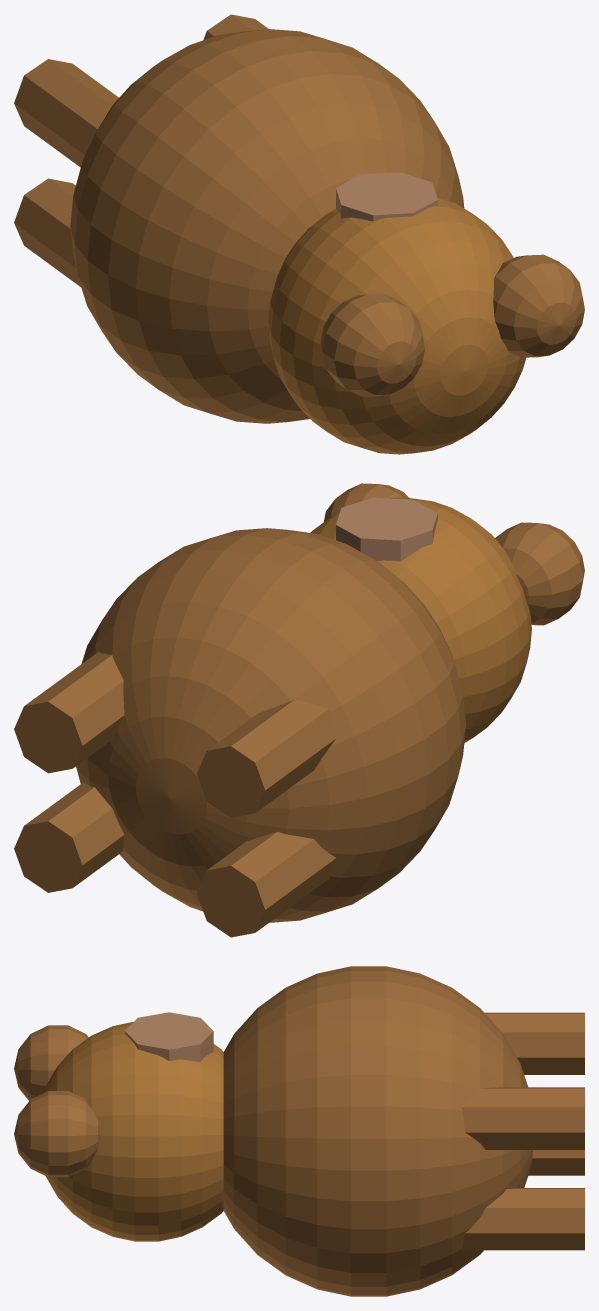
Rendered from bear.glb.
3 renders of one model, top to bottom at view 1: azimuth 30°, elevation 25°; view 2: azimuth 150°, elevation 25°; view 3: azimuth 270°, elevation 25°, orthographic. The views are drawn at different scales.
Visible parts, largest first — view 1: world; view 2: world; view 3: world.
Part boxes in pixels (x1,y1,x2,y2): world: (14,14,584,454); world: (14,483,584,937); world: (14,966,584,1296).
Bounding box in the file's own units: 2.98 × 2.98 × 5.15.
